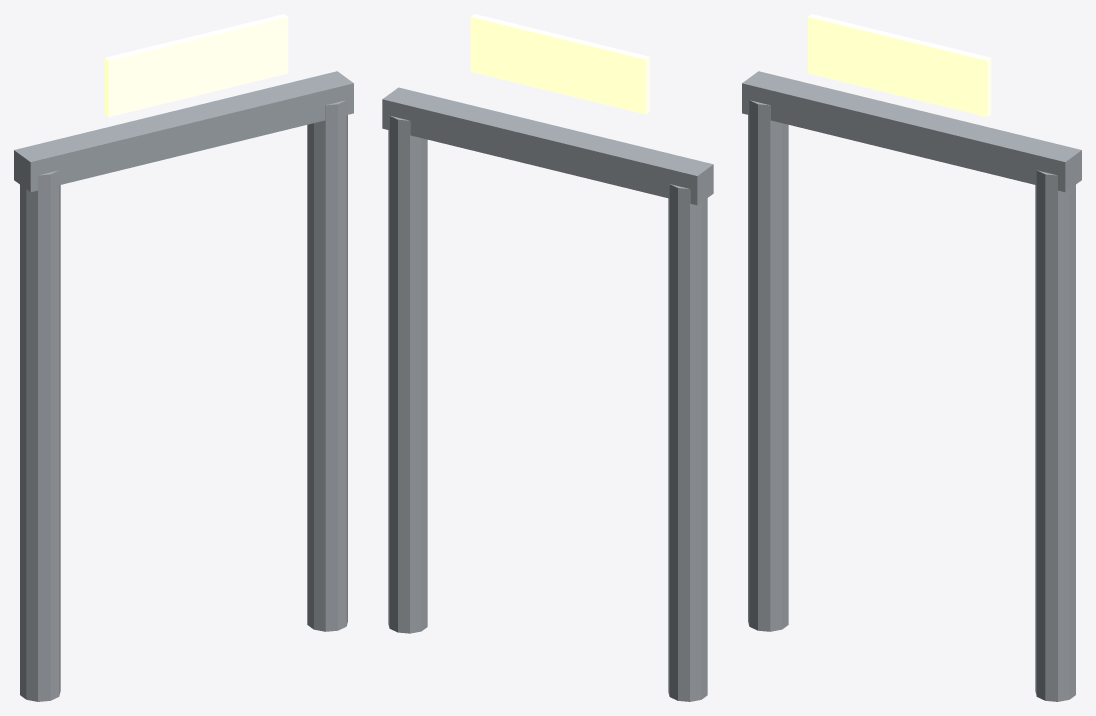
The model's file is gate.glb.
3 views of the same model, side by side, from view 1: azimuth 30°, elevation 25°; view 2: azimuth 150°, elevation 25°; view 3: azimuth 330°, elevation 25° (orthographic). The views are drawn at different scales.
Visible parts, largest first — view 1: Post, Post.001, Lintel, Signage; view 2: Post, Post.001, Lintel, Signage; view 3: Post.001, Post, Lintel, Signage.
Boxes of the visible parts, x1,y1,x2,y2 form: Post: (20,170,60,701); Post.001: (307,100,347,631); Lintel: (14,71,353,192); Signage: (104,14,288,116); Post: (668,184,707,701); Post.001: (388,115,427,633); Lintel: (382,87,713,205); Signage: (470,14,649,114); Post.001: (1035,170,1075,701); Post: (748,100,788,631); Lintel: (742,71,1081,192); Signage: (807,14,991,116).
Size of the model in its own units: 0.9 by 1.68 by 0.12.
